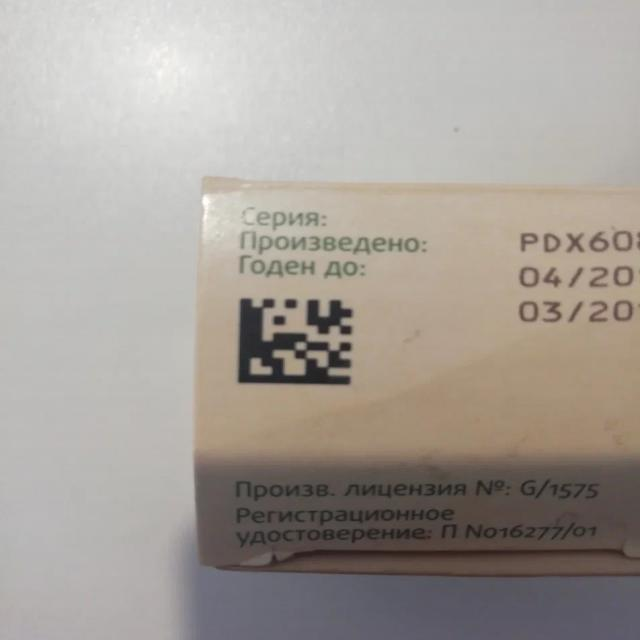datamatrix: (235, 297, 357, 388)
